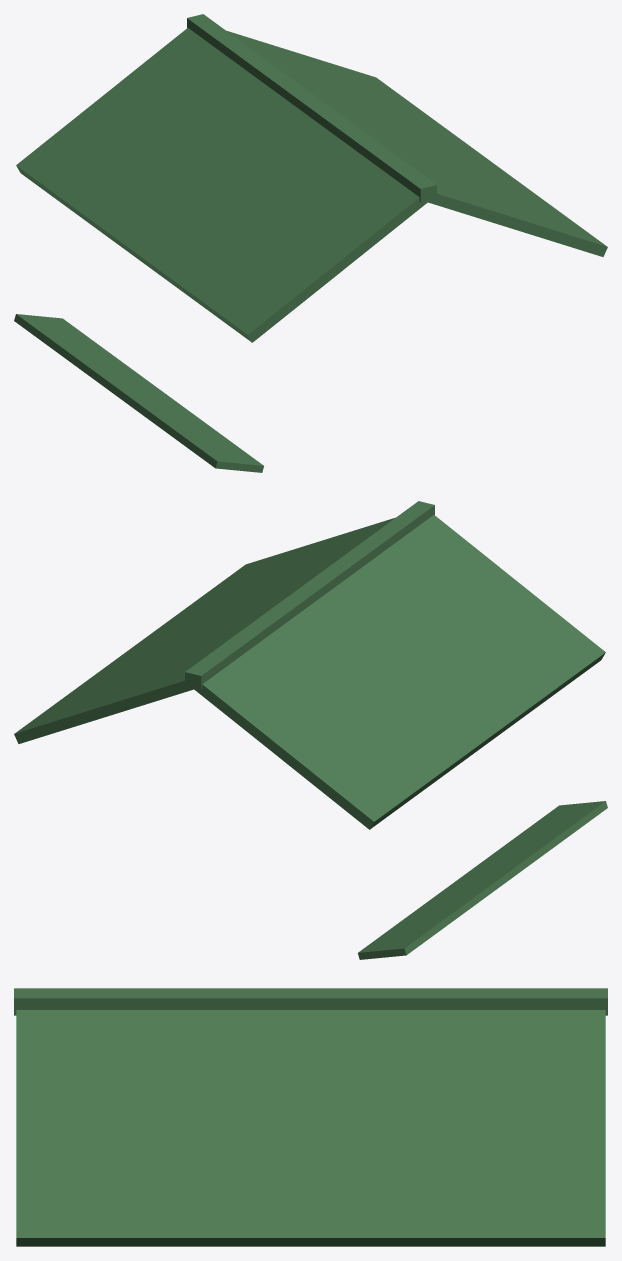
The model's file is HouseRoofsW_RoofGreen.fbx.
3 views of the same model, one above another, from view 1: azimuth 30°, elevation 25°; view 2: azimuth 150°, elevation 25°; view 3: azimuth 270°, elevation 25° (orthographic). The views are drawn at different scales.
Visible parts, largest first — view 1: RoofW1_-1.001; view 2: RoofW1_-1.001; view 3: RoofW1_-1.001.
Part boxes in pixels (bbox=[...]): RoofW1_-1.001: bbox=[14, 14, 607, 472]; RoofW1_-1.001: bbox=[14, 501, 607, 959]; RoofW1_-1.001: bbox=[14, 988, 607, 1246].
Bounding box in the file's own units: 2304 × 1523 × 2471.
